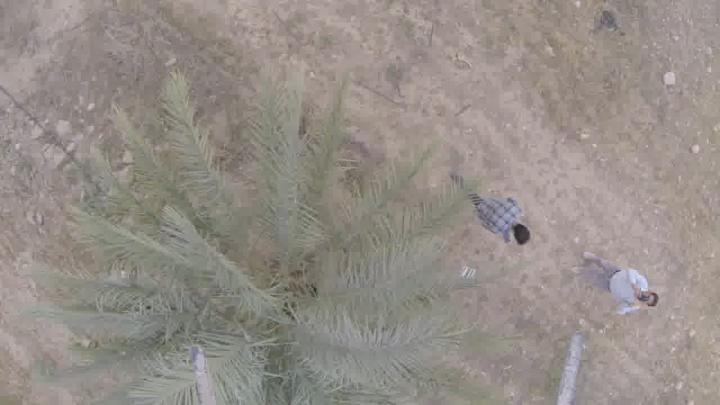Date-Palm-Crown: (126, 157, 397, 405)
